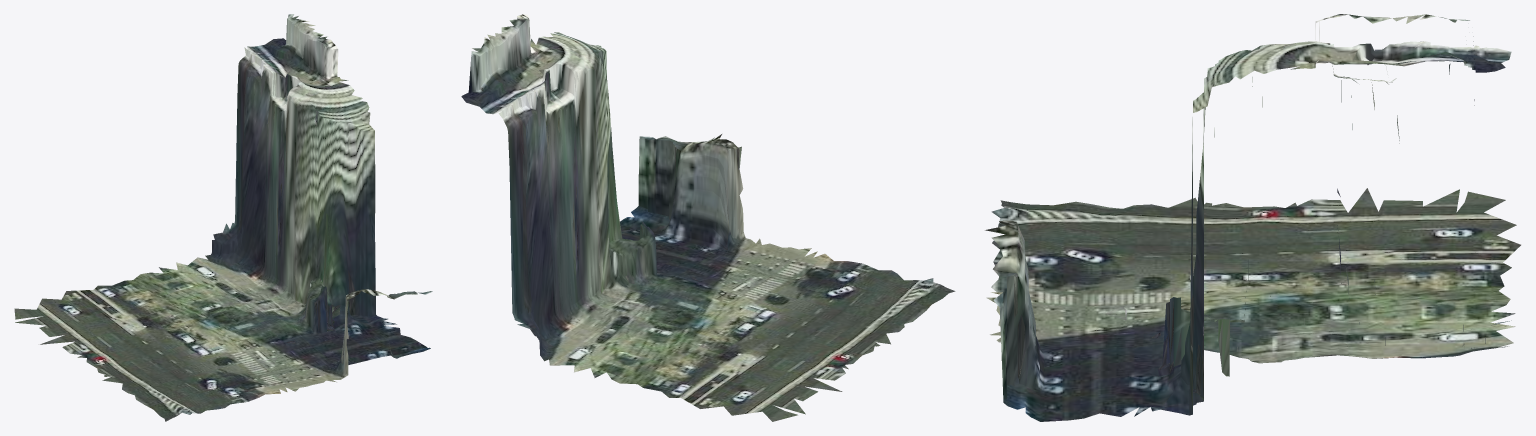
Rendered from Tile_001_002_L14_322.glb.
3 renders of one model, left to right at view 1: azimuth 30°, elevation 25°; view 2: azimuth 150°, elevation 25°; view 3: azimuth 270°, elevation 25°, orthographic. The views are drawn at different scales.
Parts seen in each view (by area): view 1: rtc; view 2: rtc; view 3: rtc.
Part boxes in pixels (x1,y1,x2,y2): rtc: (14, 14, 432, 421); rtc: (461, 14, 955, 421); rtc: (985, 14, 1520, 421).
Bounding box in the file's own units: 74.32 × 59.98 × 72.2.
Materials: 1 (1 with a texture image).
